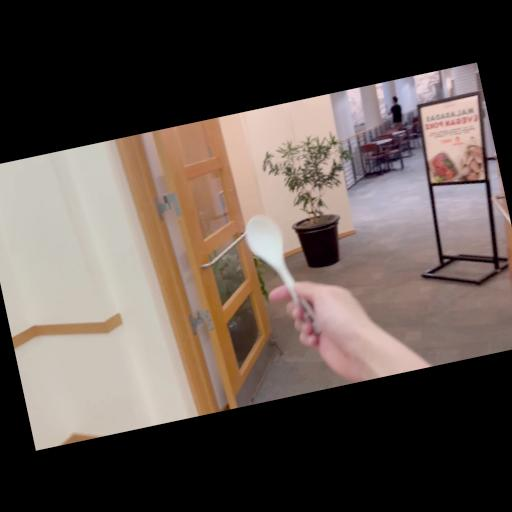utensil: (242, 203, 323, 345)
